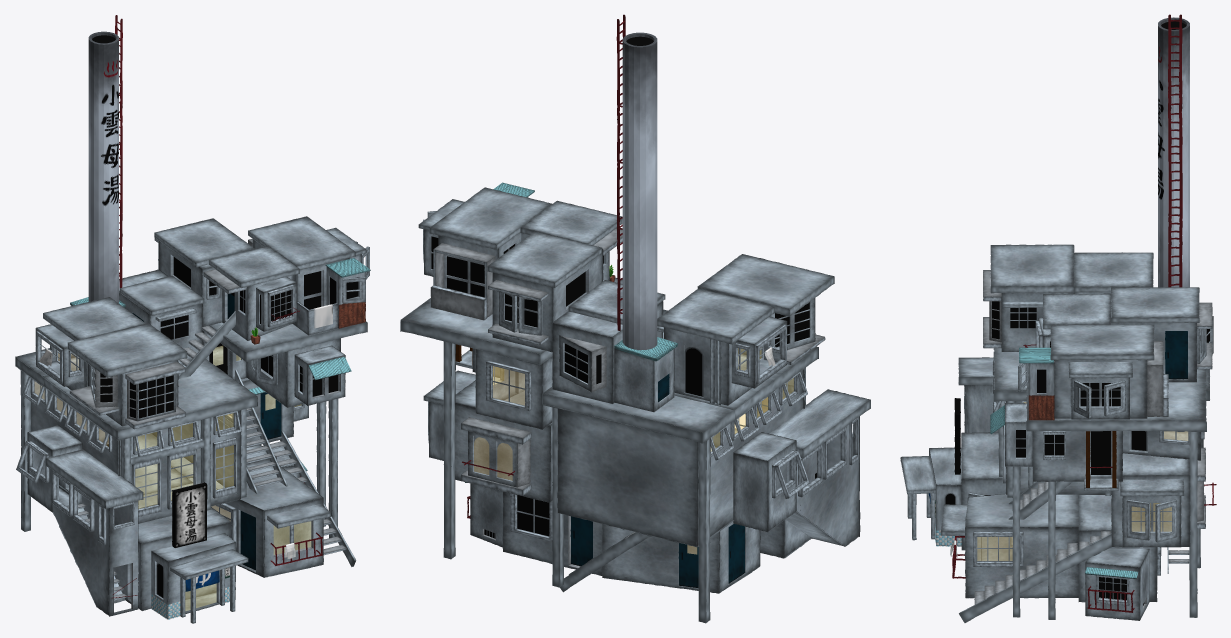
3 views of the same model, side by side, from view 1: azimuth 30°, elevation 25°; view 2: azimuth 150°, elevation 25°; view 3: azimuth 270°, elevation 25° (orthographic). The views are drawn at different scales.
Parts seen in each view (by area): view 1: Plane.158; view 2: Plane.158; view 3: Plane.158.
Part boxes in pixels (x1,y1,x2,y2): Plane.158: (15,15,370,623); Plane.158: (400,14,870,623); Plane.158: (900,14,1216,622).
Size of the model in its own units: 1.74 by 2.53 by 1.34.
4 materials, 2 textured.
